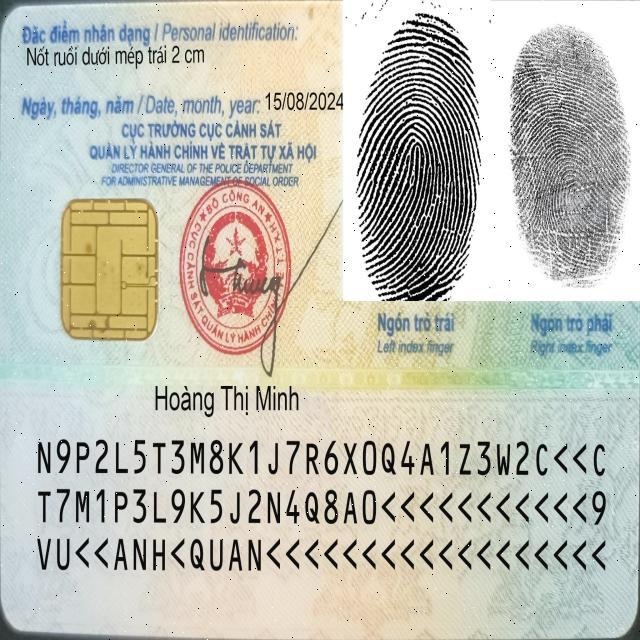features: (25, 44, 209, 74)
finger_print: (500, 9, 640, 366), (347, 6, 485, 366)
issue_date: (262, 86, 347, 117)
